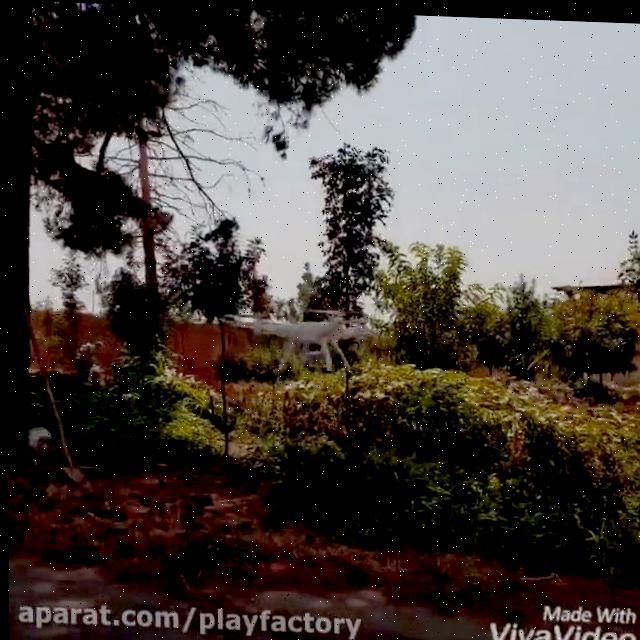drone: (220, 303, 379, 370)
